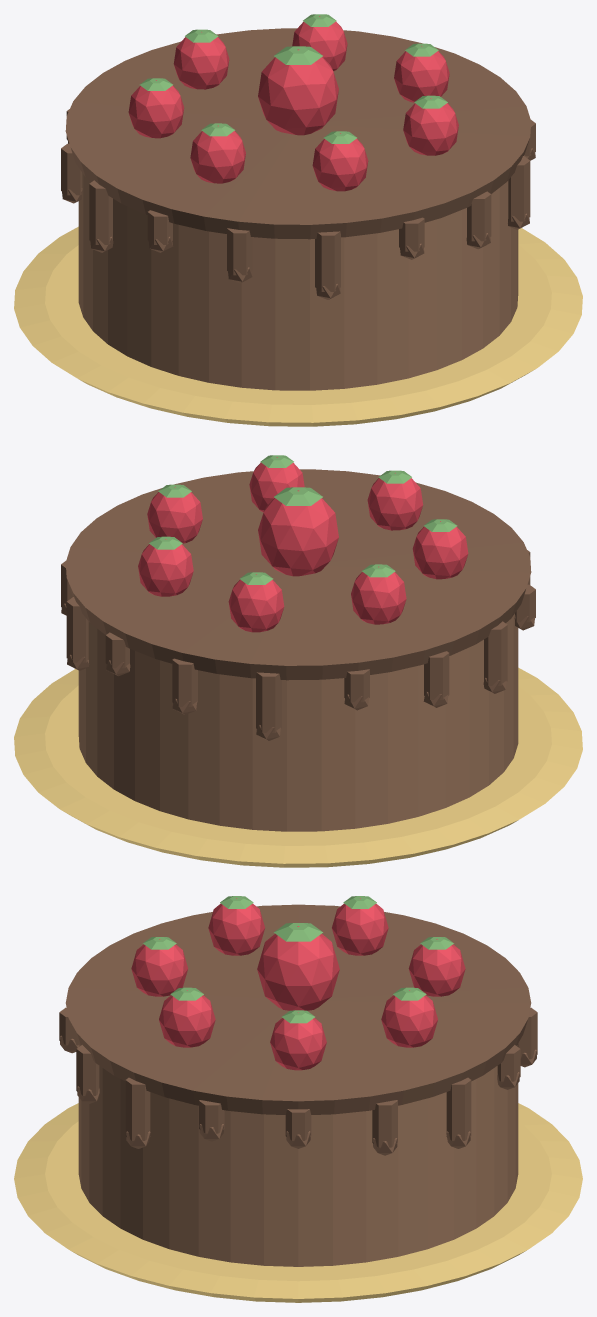
Rendered from HOB_StrawberryChocoCake.fbx.
3 views of the same model, one above another, from view 1: azimuth 30°, elevation 25°; view 2: azimuth 150°, elevation 25°; view 3: azimuth 270°, elevation 25° (orthographic).
Parts seen in each view (by area): view 1: HOB_StrawberryChocoCake; view 2: HOB_StrawberryChocoCake; view 3: HOB_StrawberryChocoCake.
Boxes of the visible parts, x1,y1,x2,y2 form: HOB_StrawberryChocoCake: (14, 14, 582, 426); HOB_StrawberryChocoCake: (14, 455, 582, 867); HOB_StrawberryChocoCake: (14, 896, 582, 1302).
Size of the model in its own units: 220 by 112 by 220.
